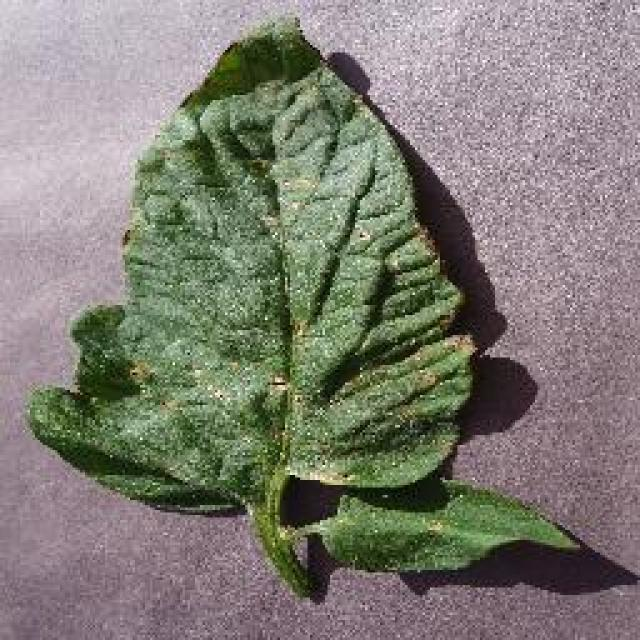Tomato___Target_Spot: (32, 20, 575, 595)
